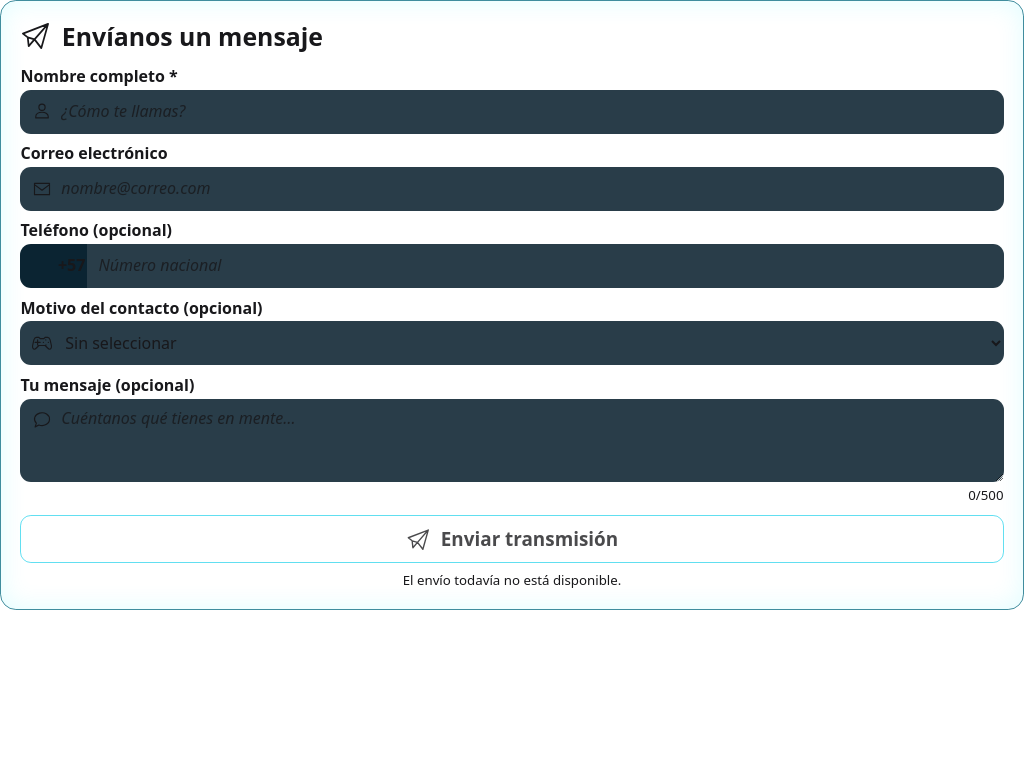
Test: searches for a localized country and calling code in es
Later steps or results of the test are not shown.
Click the button named "Colombia +57" at (54, 266), box [20,244,87,288]
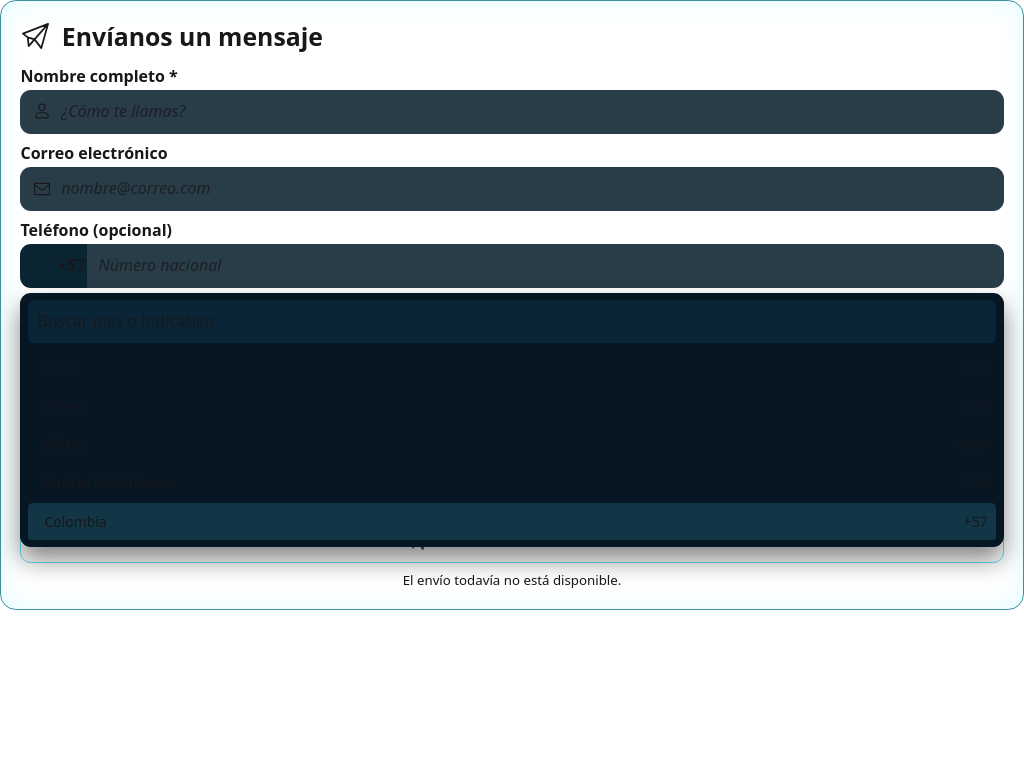
Type "espana" into the dropdown labelled "Buscar país o indicativo" at (512, 321), box [28,300,996,342]
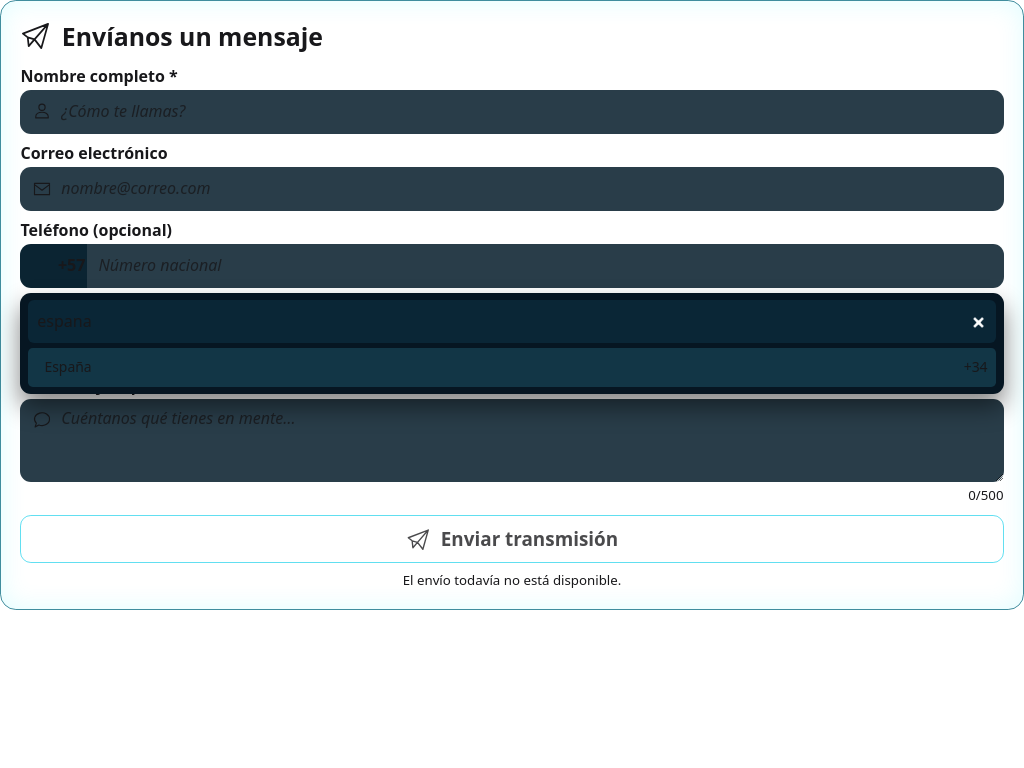
Press Enter in the dropdown named "Buscar país o indicativo", box [28,300,996,342]
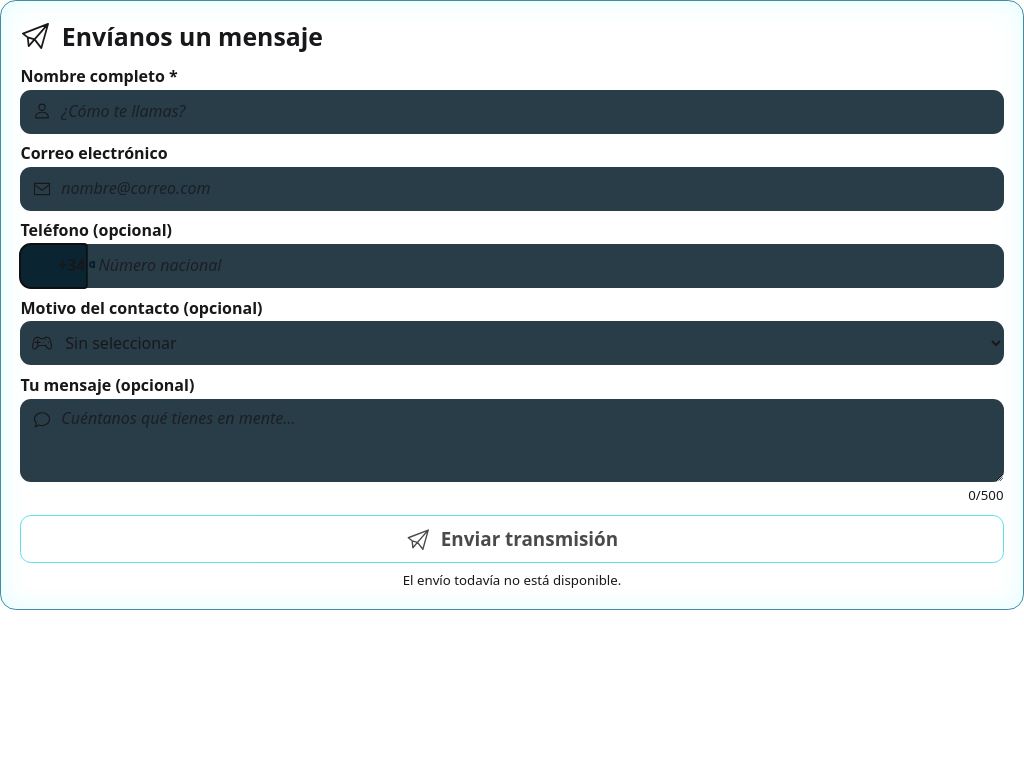
Now the list is gone
